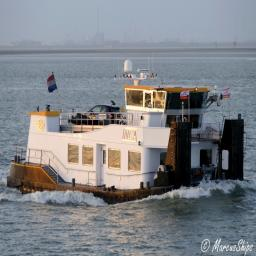tugboat: (7, 57, 249, 210)
